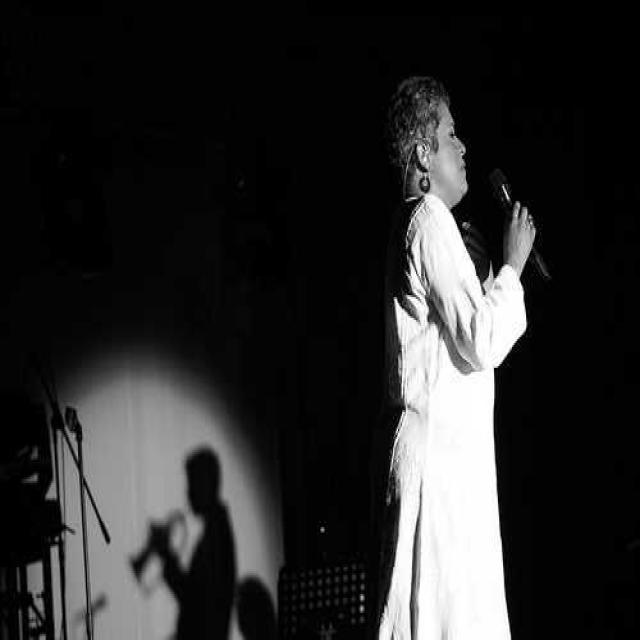microphone: (485, 168, 554, 282), (27, 356, 64, 434)
